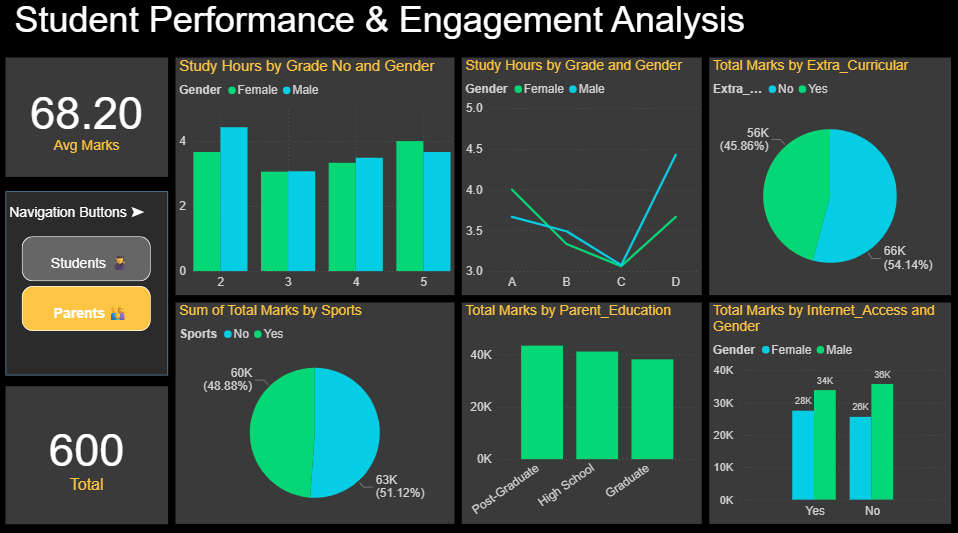

The page's visual inventory and layout, read from the dashboard file:
{"tool":"powerbi","page":{"name":"Parents 👨👩👦","canvas":[1280,720],"ordinal":1},"visuals":[{"type":"clusteredColumnChart","title":"Study Hours by Grade No and Gender","fields":{"Category":["student_performance_dataset.Grade No"],"Y":["student_performance_dataset.Avg Study"],"Series":["student_performance_dataset.Gender"]},"box":[236,83.7,371.9,317],"z":0},{"type":"lineChart","title":"Study Hours by Grade and Gender","fields":{"Category":["student_performance_dataset.Final_Grade"],"Y":["Avg(student_performance_dataset.Study_Hours)"],"Series":["student_performance_dataset.Gender"]},"box":[618.9,83.7,319.7,317],"z":5000},{"type":"pieChart","title":"Total Marks by Extra_Curricular","fields":{"Category":["student_performance_dataset.Extra_Curricular"],"Y":["Sum(student_performance_dataset.Total Marks)"]},"box":[948.2,83.7,322.5,317],"z":5001},{"type":"pieChart","fields":{"Category":["student_performance_dataset.Sports"],"Y":["Sum(student_performance_dataset.Total Marks)"]},"box":[236,410.3,371.9,295],"z":5002},{"type":"clusteredColumnChart","title":"Total Marks by Parent_Education","fields":{"Category":["student_performance_dataset.Parent_Education"],"Y":["Sum(student_performance_dataset.Total Marks)"]},"box":[618.9,410.3,319.7,295],"z":5003},{"type":"clusteredColumnChart","title":"Total Marks by Internet_Access and Gender","fields":{"Category":["student_performance_dataset.Internet_Access"],"Y":["Sum(student_performance_dataset.Total Marks)"],"Series":["student_performance_dataset.Gender"]},"box":[948.2,410.3,322.5,295],"z":5004},{"type":"shape","box":[9.6,262.1,216.8,245.6],"z":5005},{"type":"pageNavigator","box":[31.6,321.1,172.9,127.6],"z":5006},{"type":"card","fields":{"Values":["student_performance_dataset.Avg Marks"]},"box":[9.6,83.7,216.8,159.2],"z":5007},{"type":"card","fields":{"Values":["student_performance_dataset.Total"]},"box":[9.6,521.4,216.8,183.9],"z":5008},{"type":"textbox","box":[9.6,271.7,194.9,37],"z":5009},{"type":"textbox","box":[0,0,1270.7,70],"z":5010}]}

Visuals, with their boxes in screenshot pixels (x1, y1, x2, y2), scaled from the page's 1280x720 canvas onto the 958x533 screenshot:
"Study Hours by Grade No and Gender" clusteredColumnChart: bbox=[177, 62, 455, 297]
"Study Hours by Grade and Gender" lineChart: bbox=[463, 62, 702, 297]
"Total Marks by Extra_Curricular" pieChart: bbox=[710, 62, 951, 297]
pieChart - student_performance_dataset.Sports x Sum(student_performance_dataset.Total Marks): bbox=[177, 304, 455, 522]
"Total Marks by Parent_Education" clusteredColumnChart: bbox=[463, 304, 702, 522]
"Total Marks by Internet_Access and Gender" clusteredColumnChart: bbox=[710, 304, 951, 522]
shape: bbox=[7, 194, 169, 376]
pageNavigator: bbox=[24, 238, 153, 332]
card - student_performance_dataset.Avg Marks: bbox=[7, 62, 169, 180]
card - student_performance_dataset.Total: bbox=[7, 386, 169, 522]
textbox: bbox=[7, 201, 153, 229]
textbox: bbox=[0, 0, 951, 52]
